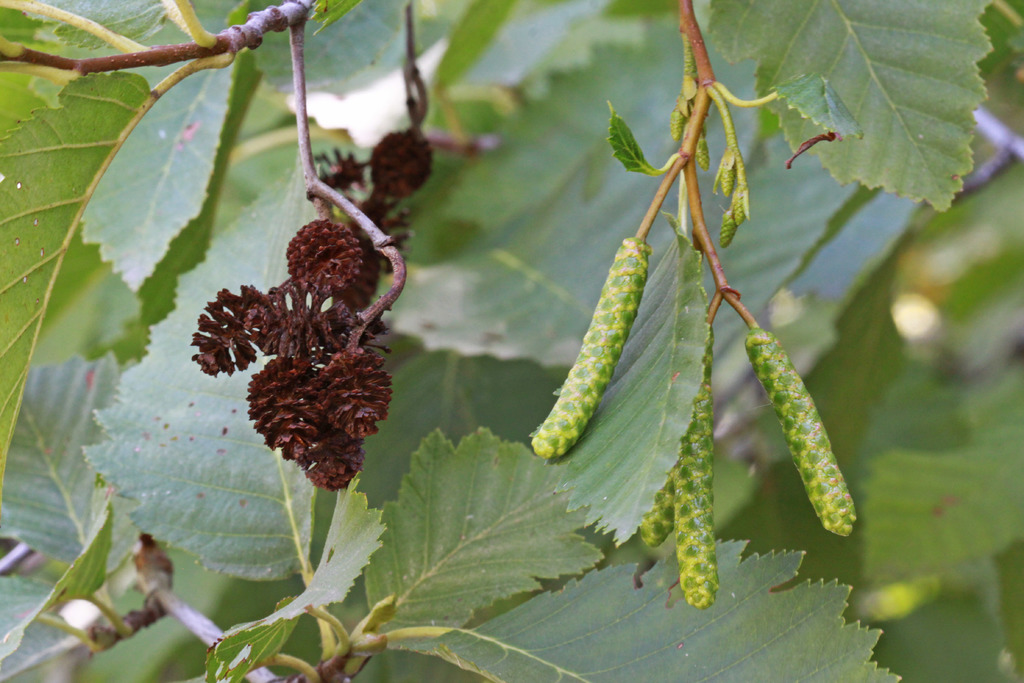Tree: (0, 1, 1024, 682)
